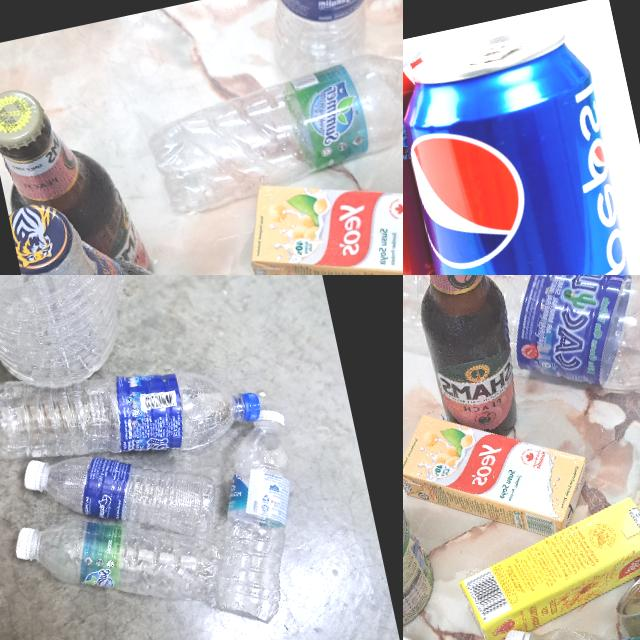aba de lata: (464, 30, 534, 68)
caixinha: (403, 381, 604, 554), (450, 491, 640, 640), (403, 526, 640, 640), (230, 146, 403, 275)
garrafa de vidro: (0, 73, 152, 275), (403, 275, 533, 451), (8, 181, 221, 275)
garrafa plástica: (137, 43, 403, 223), (403, 275, 640, 438), (0, 335, 231, 485), (179, 430, 324, 632), (34, 428, 234, 558), (23, 494, 204, 626), (0, 275, 138, 406), (268, 0, 403, 86)
lata: (403, 20, 640, 275), (403, 38, 485, 275), (403, 469, 438, 640)
tampa plástica: (246, 398, 288, 434), (10, 454, 44, 494), (7, 522, 38, 558), (488, 621, 539, 640), (234, 388, 260, 422), (494, 624, 536, 640)
